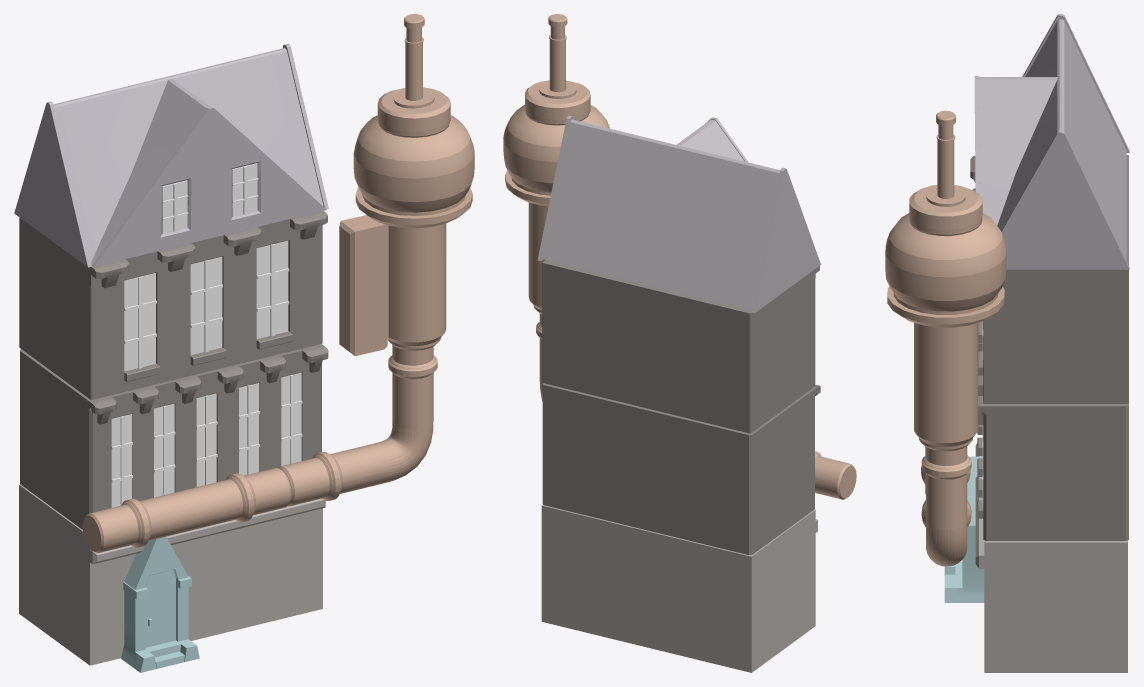
File: house1.fbx
3 renders of one model, left to right at view 1: azimuth 30°, elevation 25°; view 2: azimuth 150°, elevation 25°; view 3: azimuth 270°, elevation 25°, orthographic. The views are drawn at different scales.
Parts seen in each view (by area): view 1: roof, f3, pCylinder5, f, f2, pCylinder4, pCylinder1, door, pCube9, pCube8, pCube10, pCube4 (+6 smaller); view 2: roof, f3, f2, f, pCylinder5, pCylinder1; view 3: roof, pCylinder5, f2, f, f3, pCylinder4, door.
Boxes of the visible parts, box(x1,y1,x2,y2) form: roof: box(14, 43, 328, 267); f3: box(19, 211, 327, 399); pCylinder5: box(339, 14, 474, 355); f: box(19, 484, 325, 665); f2: box(20, 344, 328, 529); pCylinder4: box(278, 345, 437, 506); pCylinder1: box(82, 468, 291, 553); door: box(121, 536, 199, 672); pCube9: box(256, 240, 289, 338); pCube8: box(190, 256, 222, 354); pCube10: box(124, 273, 156, 371); pCube4: box(111, 414, 132, 507); roof: box(537, 115, 820, 313); f3: box(542, 259, 819, 433); f2: box(542, 383, 820, 554); f: box(541, 505, 817, 672); pCylinder5: box(503, 14, 609, 313); pCylinder1: box(815, 451, 856, 499); roof: box(974, 14, 1129, 269); pCylinder5: box(885, 110, 1006, 451); f2: box(977, 343, 1128, 540); f: box(975, 443, 1127, 672); f3: box(970, 155, 1128, 403); pCylinder4: box(921, 446, 971, 566); door: box(944, 456, 984, 602).
Size of the model in its own units: 20.35 by 30.54 by 11.38.
